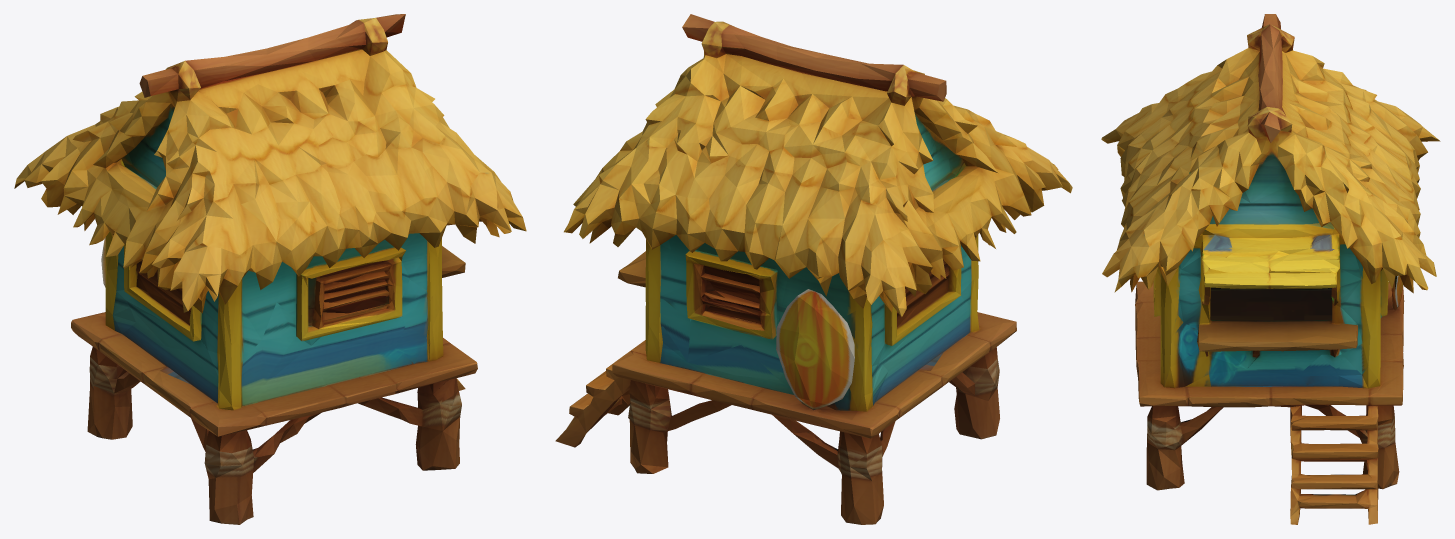
File: surf_shack.glb
3 views of the same model, side by side, from view 1: azimuth 30°, elevation 25°; view 2: azimuth 150°, elevation 25°; view 3: azimuth 270°, elevation 25° (orthographic). The views are drawn at different scales.
Parts seen in each view (by area): view 1: geometry_0; view 2: geometry_0; view 3: geometry_0.
Boxes of the visible parts, x1,y1,x2,y2 form: geometry_0: (14,14,526,524); geometry_0: (555,14,1072,524); geometry_0: (1101,14,1440,524).
Bounding box in the file's own units: 0.9751 × 1 × 0.8277.
1 material, 1 textured.
